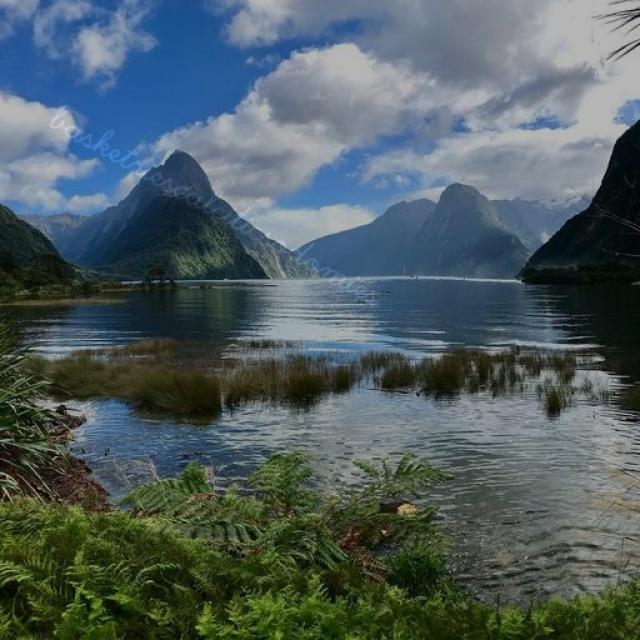watermark: (39, 96, 403, 314)
